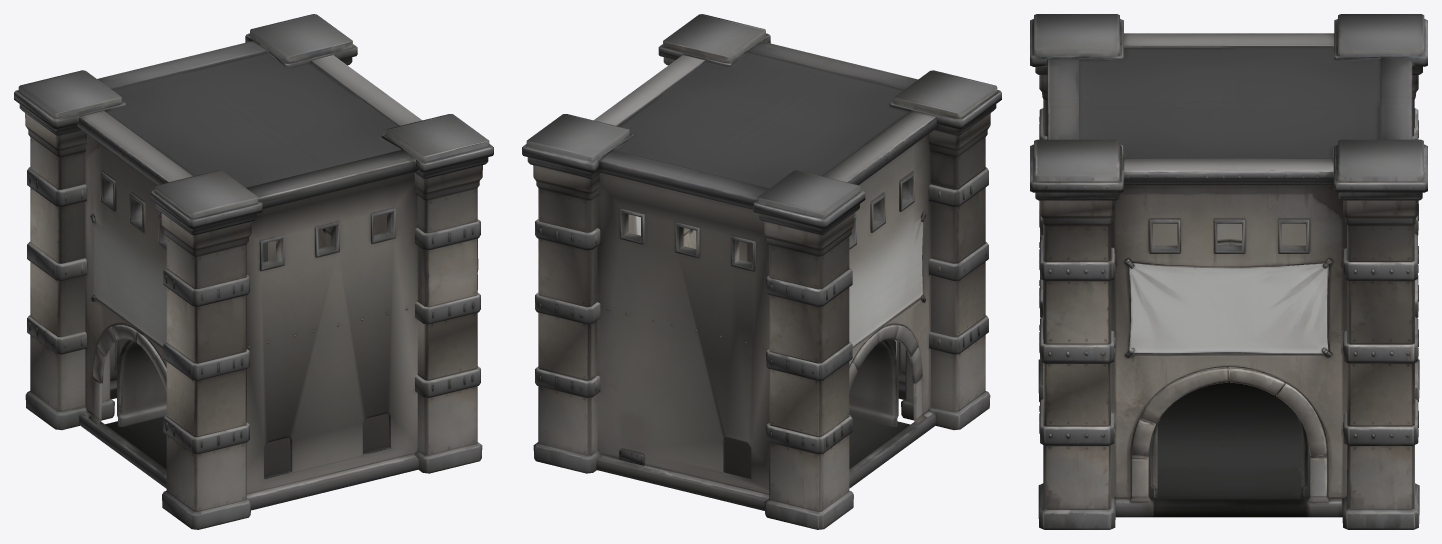
3 renders of one model, left to right at view 1: azimuth 30°, elevation 25°; view 2: azimuth 150°, elevation 25°; view 3: azimuth 270°, elevation 25°, orthographic. The views are drawn at different scales.
Visible parts, largest first — view 1: tripo_node_f15dce44-f535-4ff6-bec2-3bf321738842; view 2: tripo_node_f15dce44-f535-4ff6-bec2-3bf321738842; view 3: tripo_node_f15dce44-f535-4ff6-bec2-3bf321738842.
Boxes of the visible parts, x1,y1,x2,y2 form: tripo_node_f15dce44-f535-4ff6-bec2-3bf321738842: (14, 14, 493, 529); tripo_node_f15dce44-f535-4ff6-bec2-3bf321738842: (522, 14, 1001, 529); tripo_node_f15dce44-f535-4ff6-bec2-3bf321738842: (1030, 14, 1427, 529).
Size of the model in its own units: 0.9829 by 0.9868 by 0.9995.
1 material, 1 textured.
